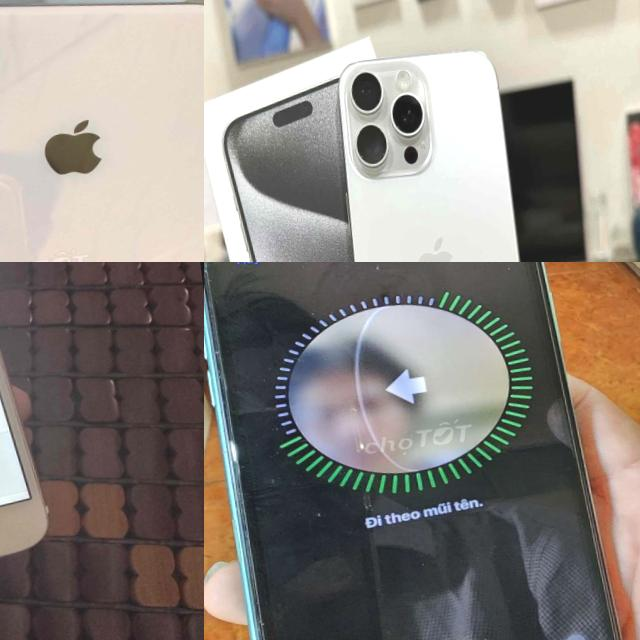gen_11: (204, 262, 640, 640)
gen_12_13: (319, 40, 559, 262)
gen_7_8: (0, 262, 62, 618)
gen_x_xs: (0, 3, 204, 262)
